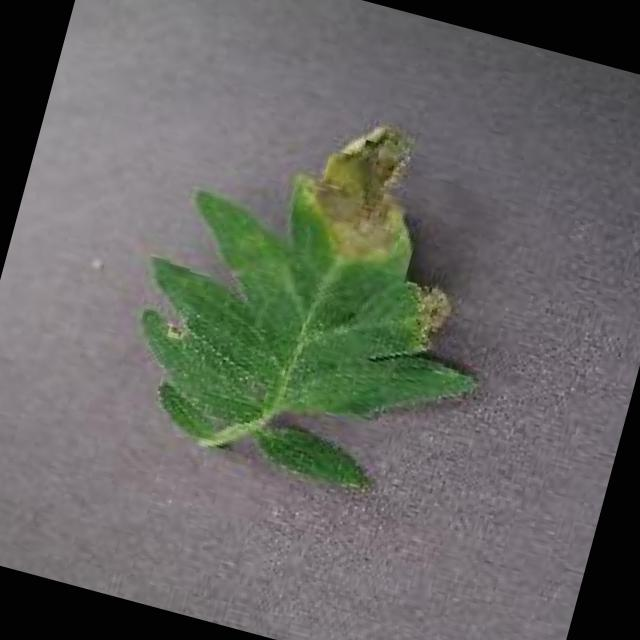leaf blight: (137, 119, 490, 493)
